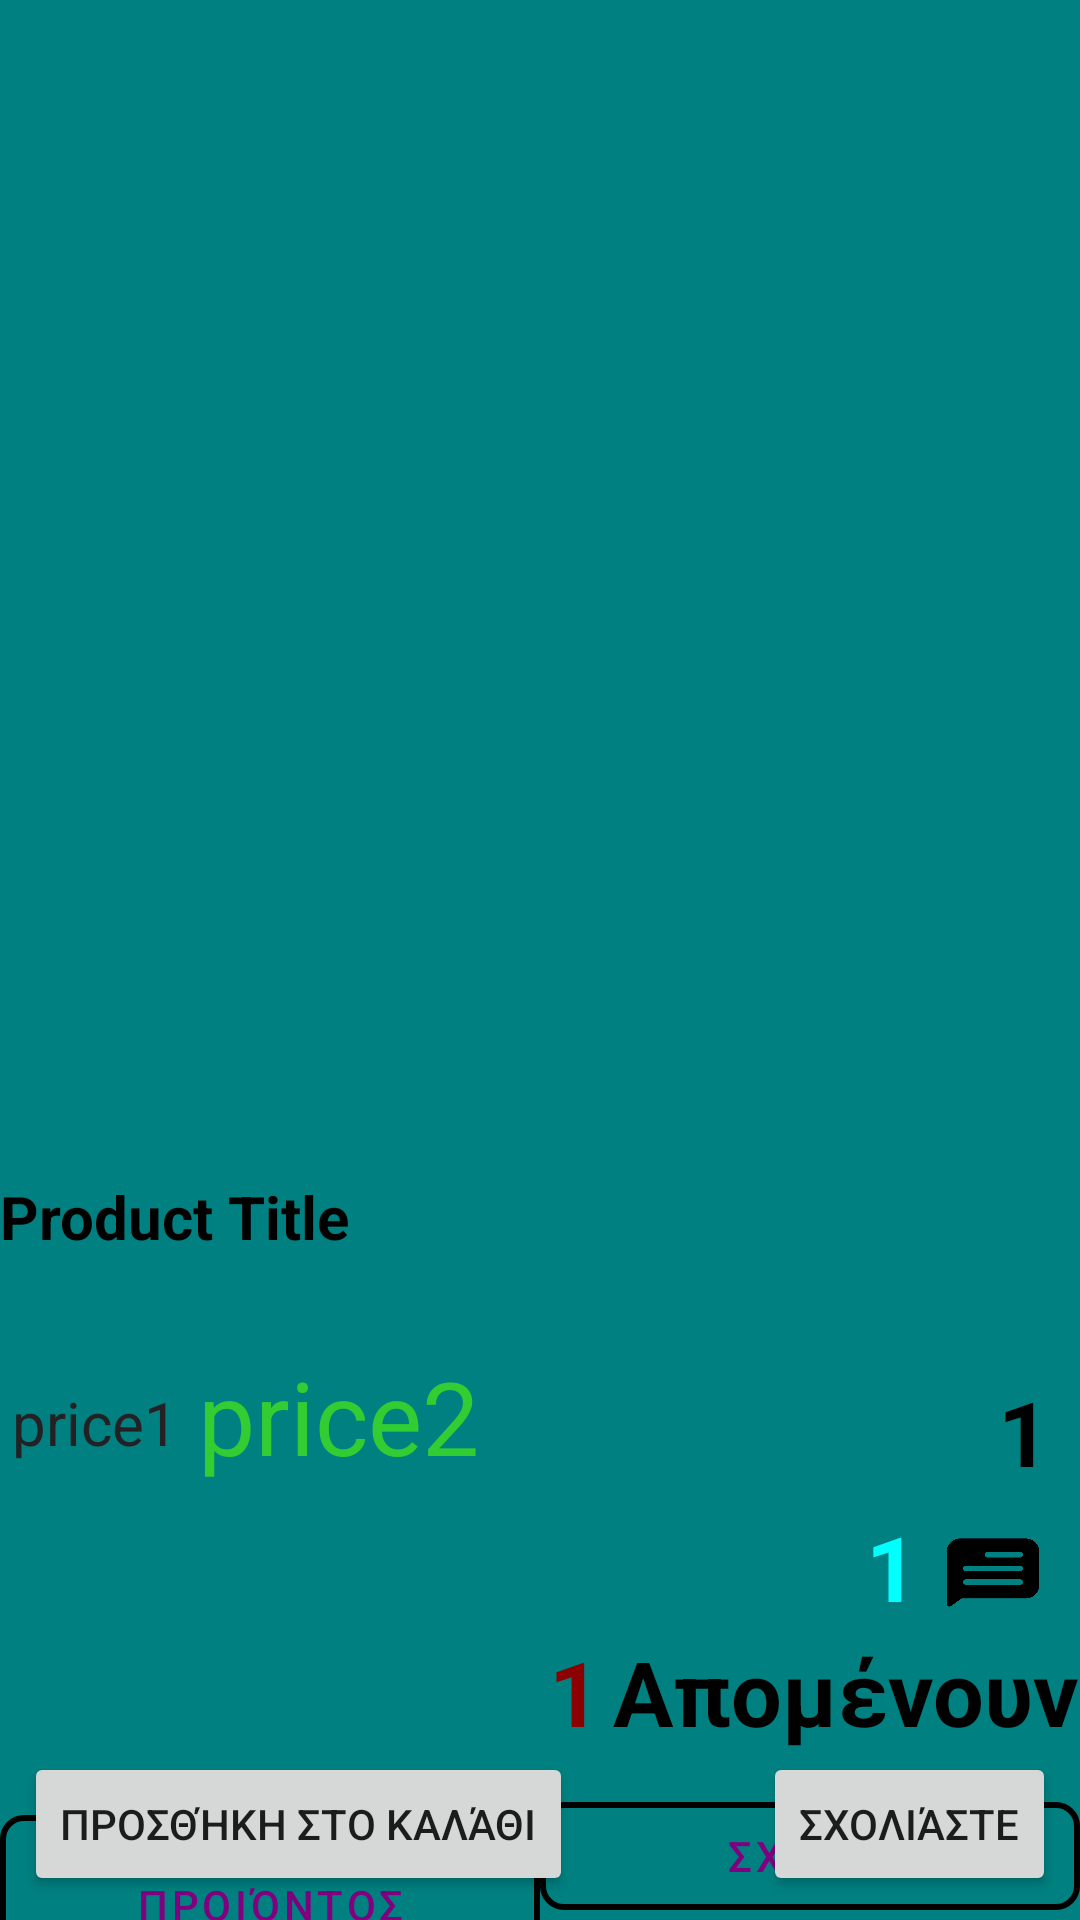

Point at icon controls on the screen. Image size 1080x1920, points as (x,y).
reviews: (993,1572)
